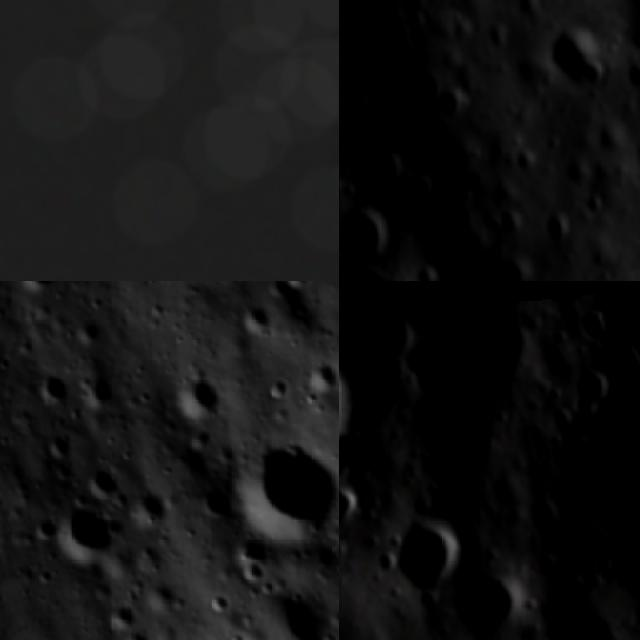crater: (219, 419, 339, 560), (43, 489, 129, 575), (538, 12, 619, 95), (379, 518, 470, 591), (450, 563, 524, 640), (594, 520, 640, 608), (164, 360, 224, 426), (339, 204, 398, 271), (563, 372, 620, 424), (124, 484, 178, 533), (23, 357, 71, 410), (356, 143, 410, 189), (192, 476, 236, 524), (304, 349, 339, 407), (432, 76, 478, 120), (6, 281, 82, 307), (235, 297, 276, 345), (339, 253, 409, 281), (83, 366, 126, 411), (568, 305, 613, 348), (541, 206, 582, 252), (339, 486, 371, 537), (603, 341, 640, 381), (625, 121, 640, 196), (620, 15, 640, 52), (532, 631, 569, 640)
